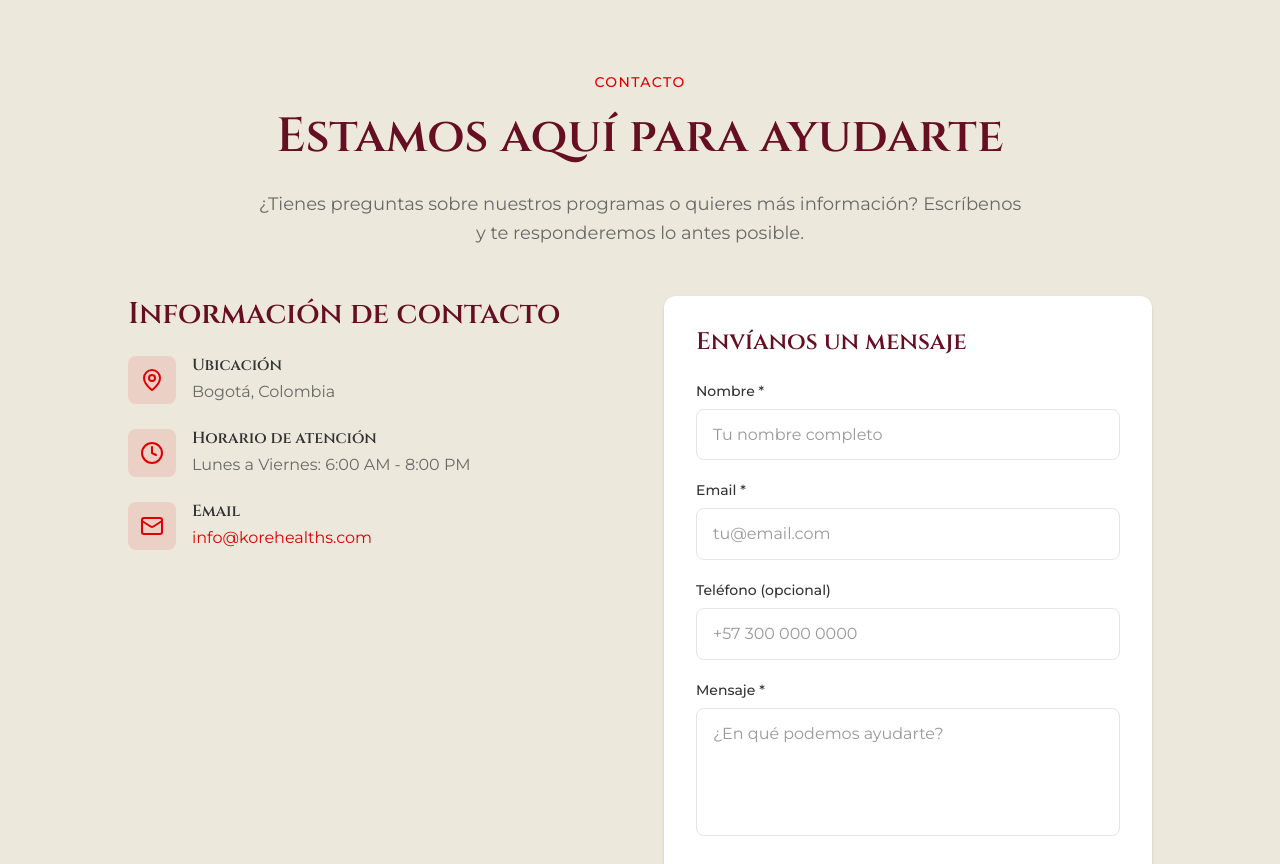
Test: ContactPage › displays error message after failed submission
Type "Juan" into the field labelled "Nombre *" at coordinates (908, 435), box left=696, top=409, right=1120, bottom=460
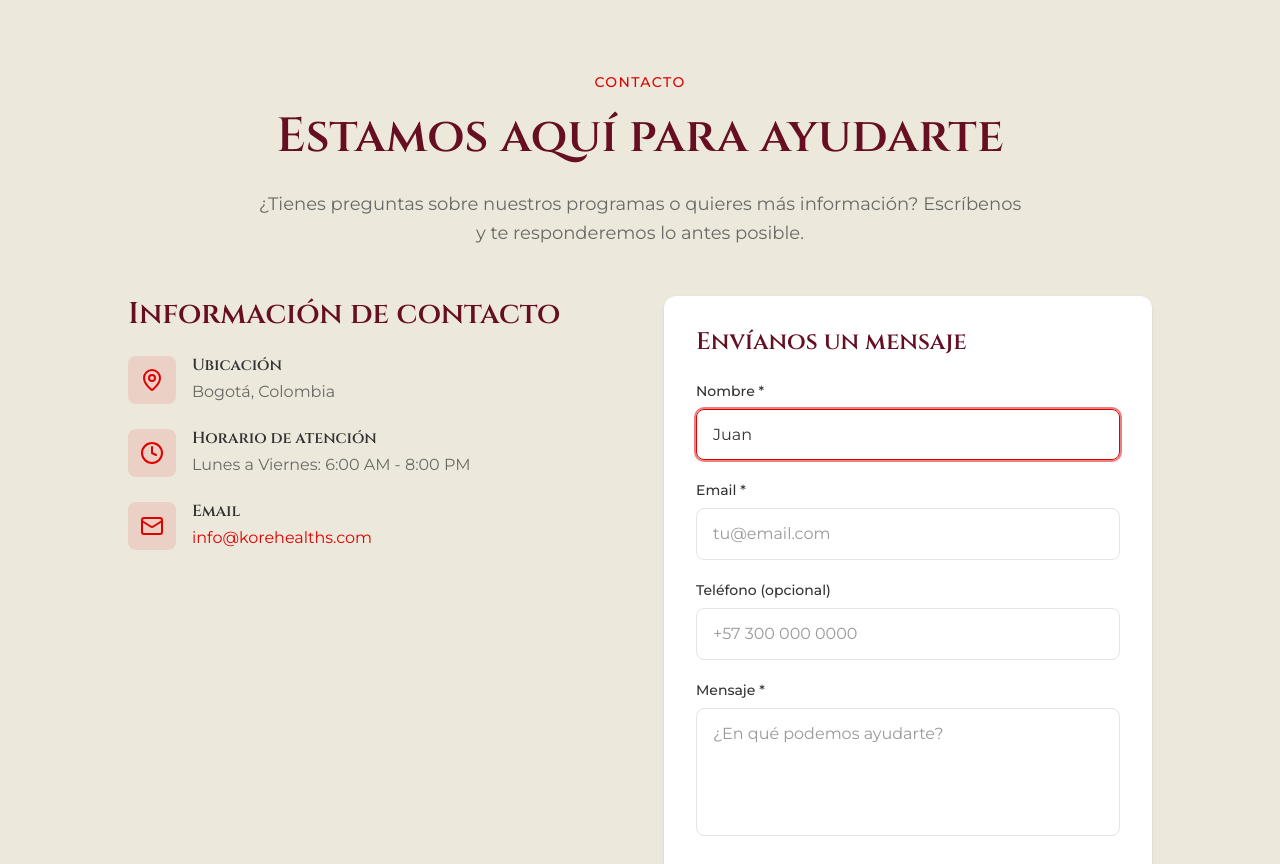
Type "juan@test.com" into the field labelled "Email *" at coordinates (908, 534), box left=696, top=508, right=1120, bottom=560
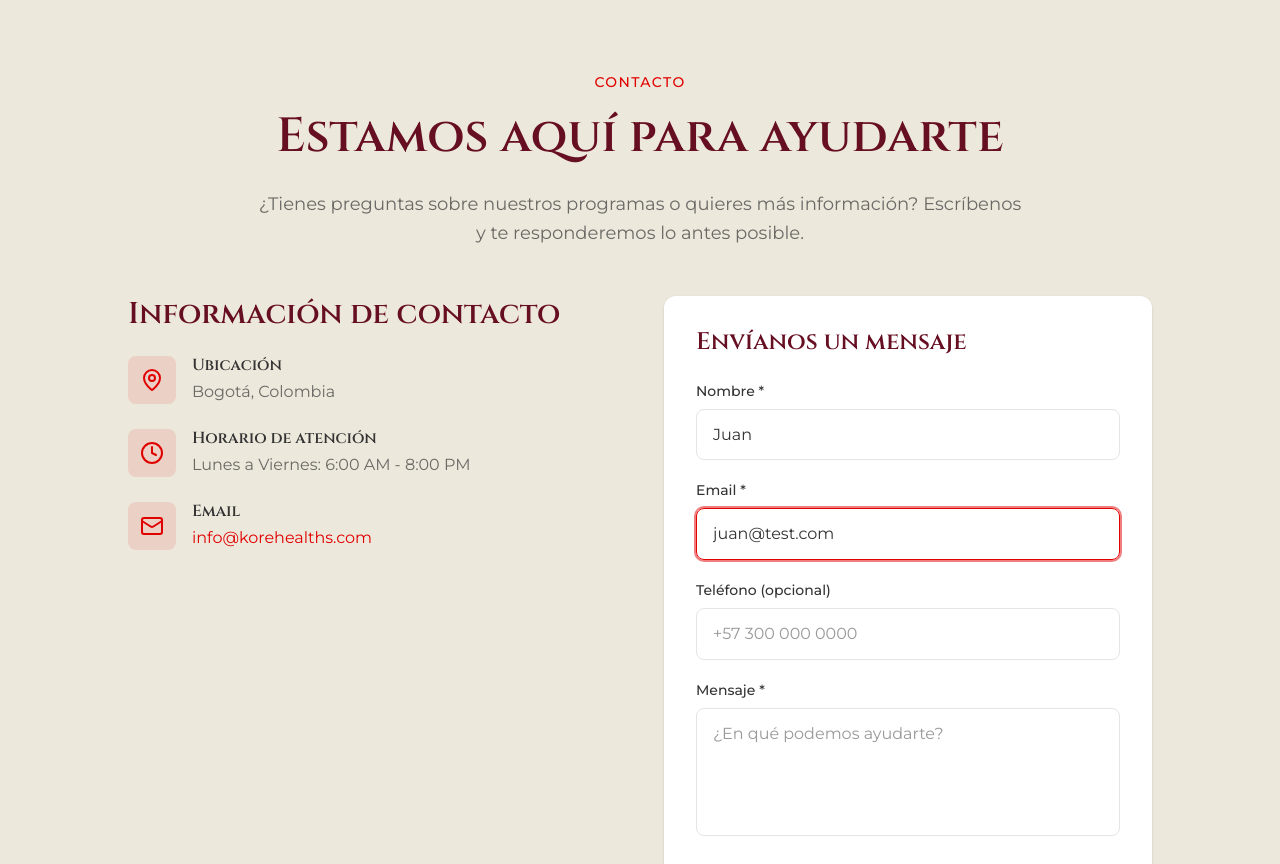
Type "Hola" into the text box labelled "Mensaje *" at coordinates (908, 772), box left=696, top=708, right=1120, bottom=836
(page scrolled)
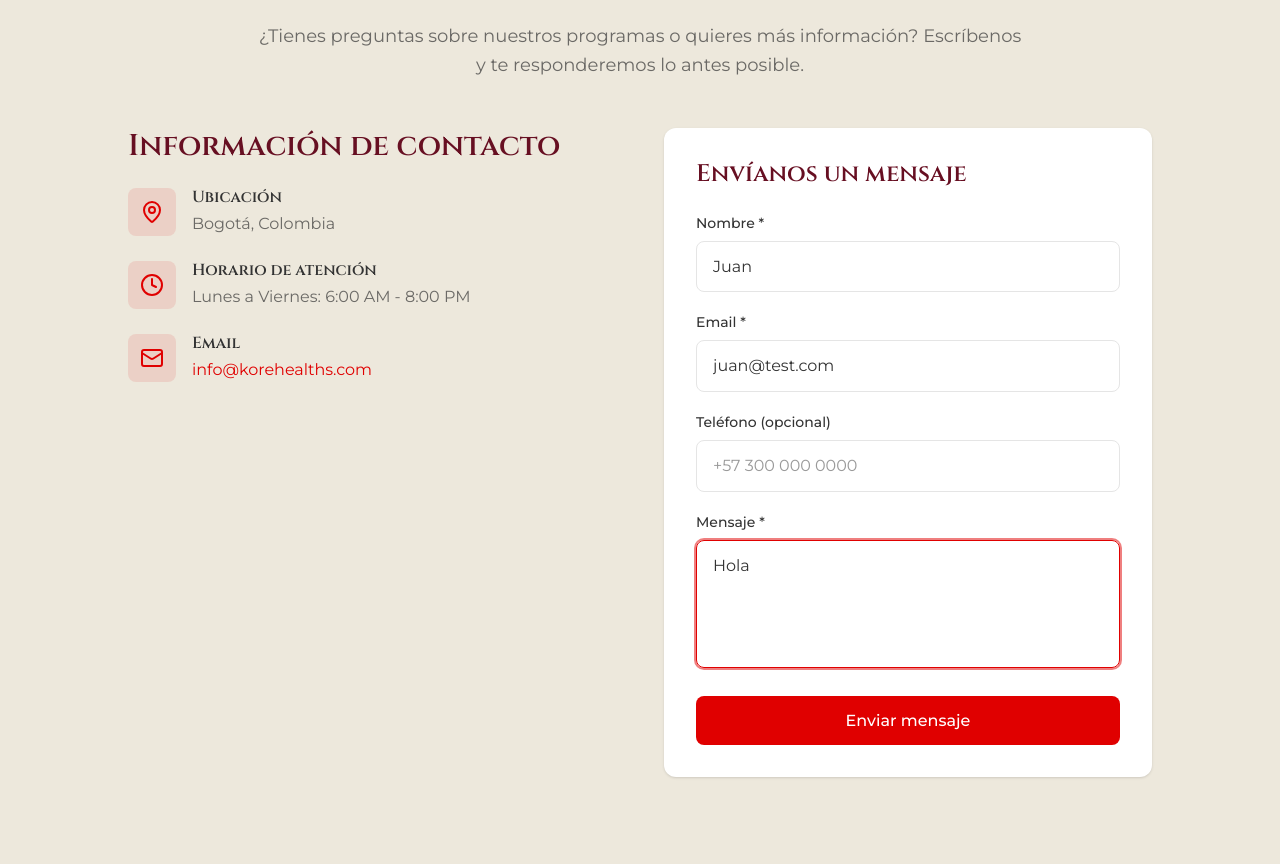
Click the button "Enviar mensaje" at coordinates (908, 720), box left=696, top=696, right=1120, bottom=745
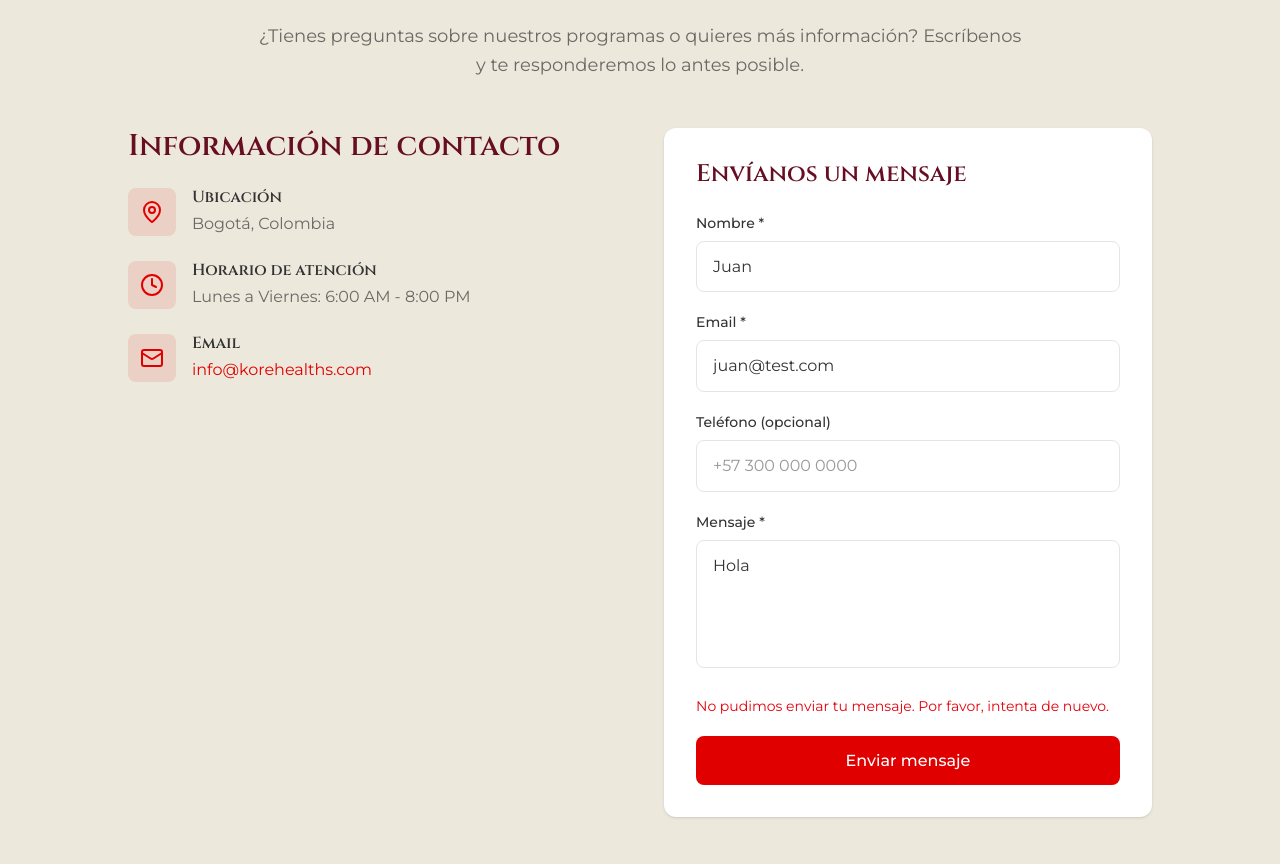
expect the text "No pudimos enviar tu mensaje. Por favor, intenta de nuevo." is shown: met, box left=696, top=696, right=1120, bottom=716
